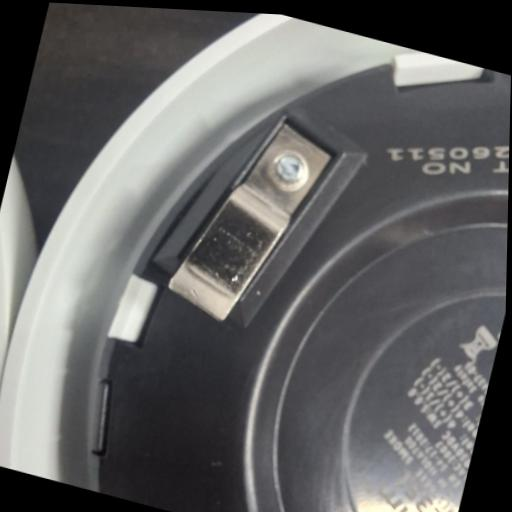yaysiz: (158, 96, 338, 343)
